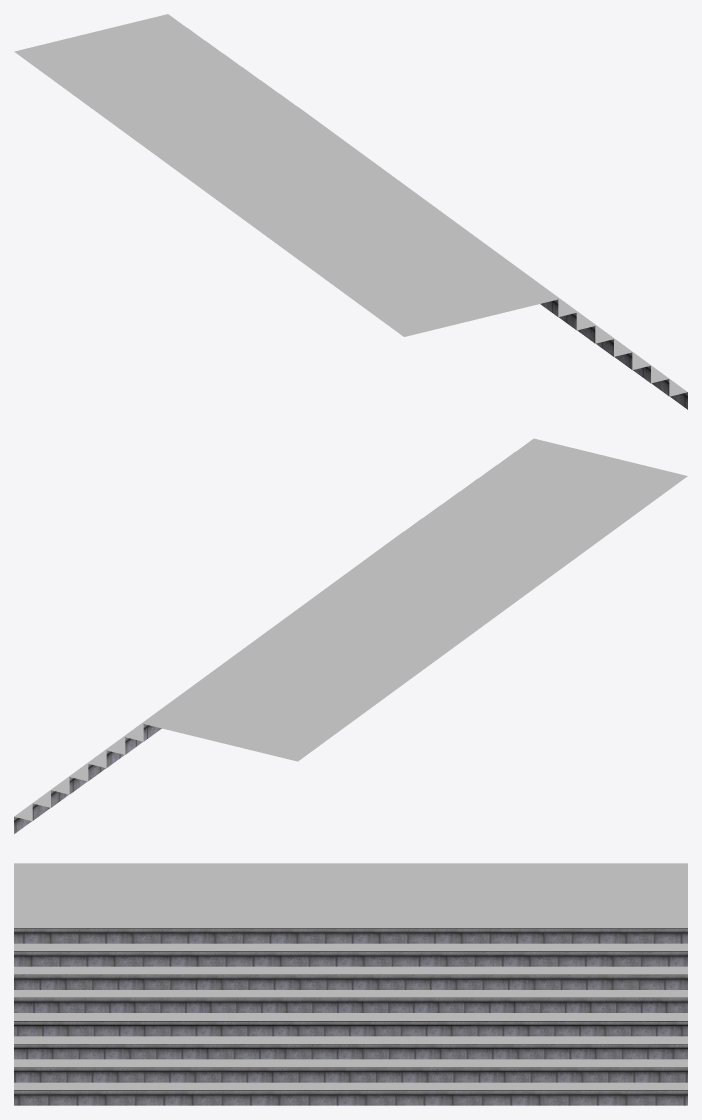
Rendered from WallStairs_2.FBX.
3 views of the same model, one above another, from view 1: azimuth 30°, elevation 25°; view 2: azimuth 150°, elevation 25°; view 3: azimuth 270°, elevation 25° (orthographic). The views are drawn at different scales.
Visible parts, largest first — view 1: wallStairs2; view 2: wallStairs2; view 3: wallStairs2.
Boxes of the visible parts, x1,y1,x2,y2 form: wallStairs2: [14, 14, 687, 409]; wallStairs2: [14, 438, 687, 833]; wallStairs2: [14, 863, 687, 1105].
Bounding box in the file's own units: 33.65 × 16.1 × 80.08.
